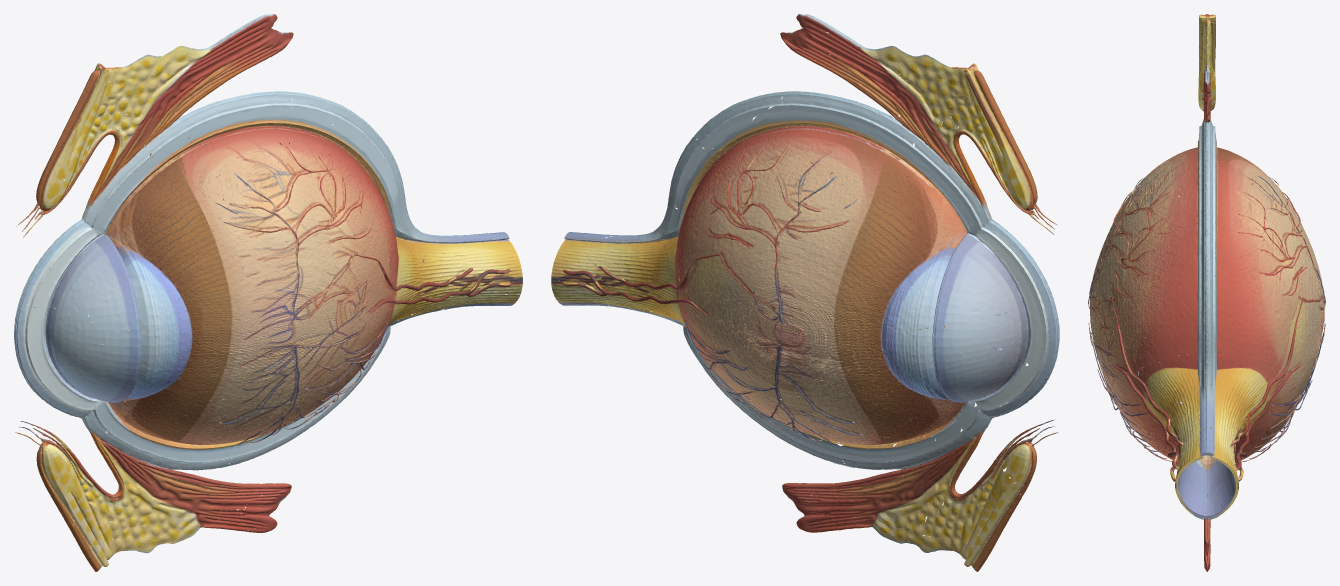
The model's file is Ojo_nuevo.glb.
The picture shows the model from 3 angles, left to right: view 1: azimuth 30°, elevation 25°; view 2: azimuth 150°, elevation 25°; view 3: azimuth 270°, elevation 25°; orthographic projection. The views are drawn at different scales.
Visible parts, largest first — view 1: Ojo, B1 Vitrectomia, B4 Via Intravitrea, E. Estrabismo, A1 Cristalino, D. Refractiva Corneal Laser, A5 Iris, B2 Esclera, A3 Cornea, A2 Glaucoma, C. Oculo-plastica, A6 Conjuntiva (+1 smaller); view 2: Ojo, B1 Vitrectomia, B4 Via Intravitrea, E. Estrabismo, A1 Cristalino, D. Refractiva Corneal Laser, A5 Iris, B2 Esclera, A3 Cornea, A2 Glaucoma, C. Oculo-plastica, A6 Conjuntiva (+1 smaller); view 3: Ojo, B1 Vitrectomia, B2 Esclera, B4 Via Intravitrea, E. Estrabismo.
Part boxes in pixels (x1,y1,x2,y2): Ojo: (15, 14, 522, 565); B1 Vitrectomia: (164, 132, 368, 311); B4 Via Intravitrea: (128, 245, 365, 443); E. Estrabismo: (96, 442, 291, 532); A1 Cristalino: (65, 235, 193, 401); D. Refractiva Corneal Laser: (27, 228, 97, 410); A5 Iris: (51, 248, 140, 402); B2 Esclera: (192, 91, 423, 237); A3 Cornea: (14, 220, 90, 418); A2 Glaucoma: (94, 125, 207, 244); C. Oculo-plastica: (107, 486, 199, 553); A6 Conjuntiva: (93, 399, 231, 462); Ojo: (551, 14, 1058, 566); B1 Vitrectomia: (705, 132, 907, 311); B4 Via Intravitrea: (707, 251, 945, 442); E. Estrabismo: (782, 443, 977, 532); A1 Cristalino: (879, 238, 1006, 400); D. Refractiva Corneal Laser: (975, 228, 1047, 410); A5 Iris: (933, 249, 1005, 402); B2 Esclera: (649, 91, 880, 237); A3 Cornea: (984, 219, 1059, 418); A2 Glaucoma: (866, 124, 979, 245); C. Oculo-plastica: (874, 486, 966, 552); A6 Conjuntiva: (840, 399, 979, 462); Ojo: (1088, 14, 1325, 519); B1 Vitrectomia: (1089, 178, 1324, 320); B2 Esclera: (1199, 122, 1215, 396); B4 Via Intravitrea: (1088, 304, 1325, 460); E. Estrabismo: (1204, 513, 1210, 571).
Bounding box in the file's own units: 1.7 × 1.71 × 0.7526.
Materials: 1 (1 with a texture image).
